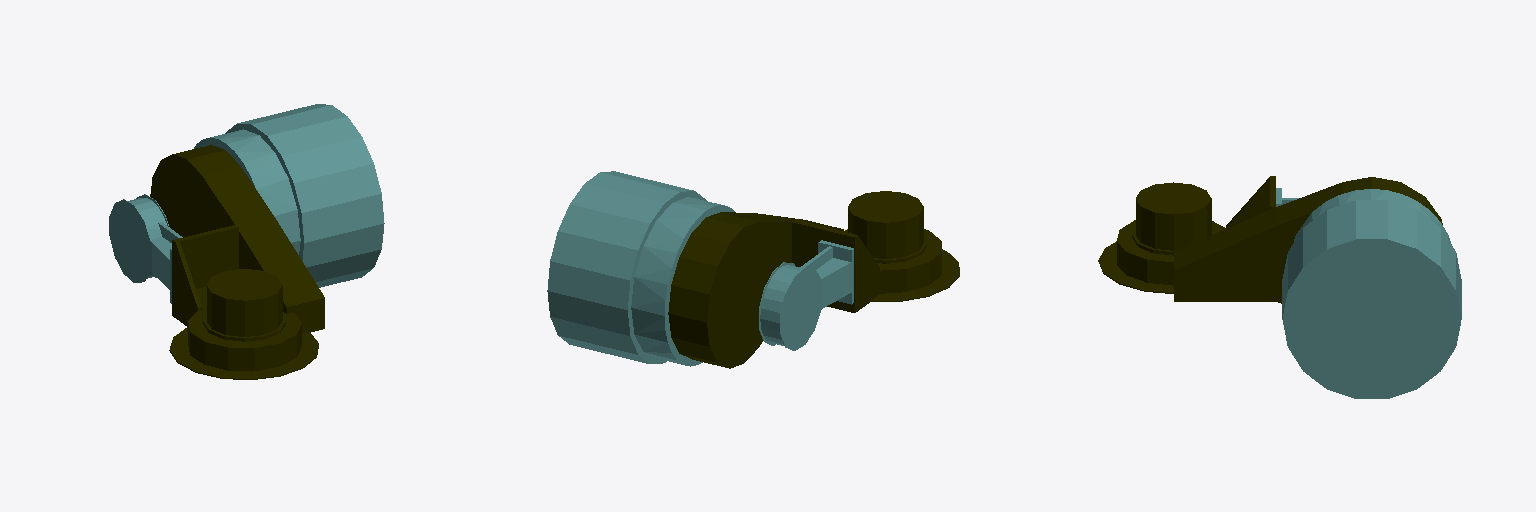
The model's file is LRO_HGA_Gimbal.obj.
The picture shows the model from 3 angles: view 1: azimuth 30°, elevation 25°; view 2: azimuth 150°, elevation 25°; view 3: azimuth 270°, elevation 25°; orthographic projection.
Parts seen in each view (by area): view 1: HGA_Gimbal; view 2: HGA_Gimbal; view 3: HGA_Gimbal.
Part boxes in pixels (left/top/right/bottom): HGA_Gimbal: left=109, top=104, right=384, bottom=379; HGA_Gimbal: left=547, top=171, right=959, bottom=368; HGA_Gimbal: left=1098, top=176, right=1461, bottom=398.
Size of the model in its own units: 0.3319 by 0.1956 by 0.4025.